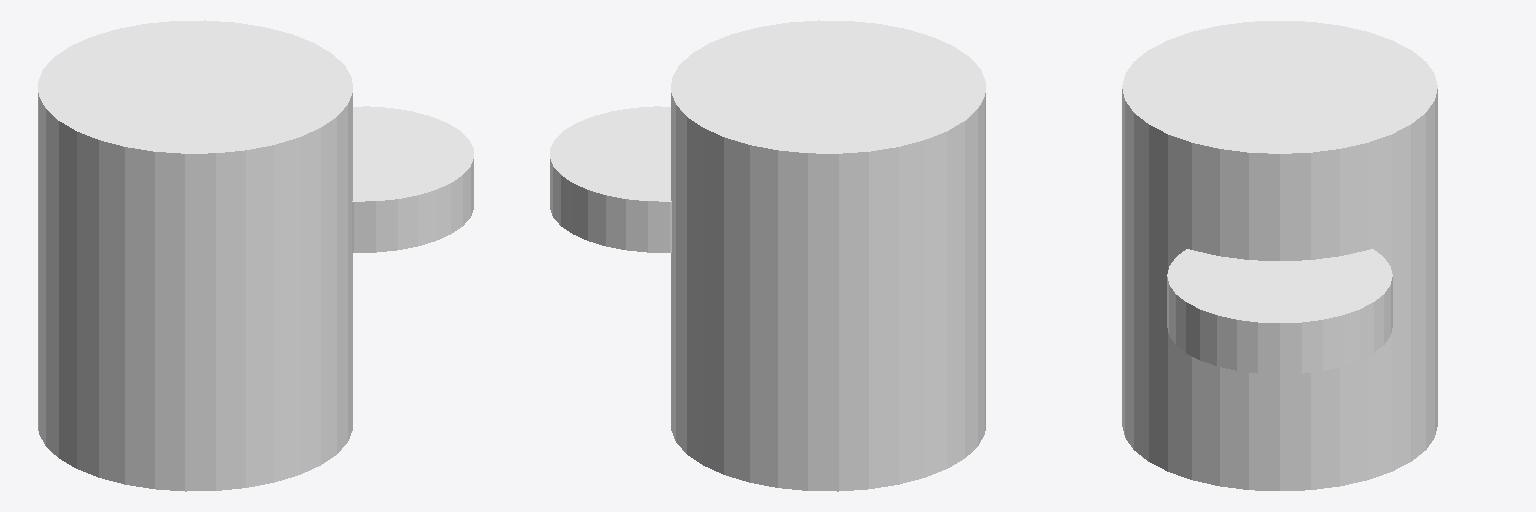
URDF robot description (mug):
<?xml version="0.0" ?>
<robot name="mug">
	<link name="mug">
		<inertial>
			<origin rpy="0.00000 -0.00000 0.00000" xyz="0.00000 0.00000 0.00000"/>
			<mass value="0.17512"/>
			<inertia ixx="0.00011" ixy="0" ixz="0" iyy="0.00016" iyz="0" izz="0.00014"/>
		</inertial>
		<visual>
			<origin rpy="0.00000 -0.00000 0.00000" xyz="0.00000 0.00000 0.03500"/>
			<geometry>
				<cylinder length="0.06600" radius="0.02800"/>
			</geometry>
			<material name="mat_-1_0">
				<color rgba="1.00000 1.00000 1.00000 1.00000" />
			</material>
		</visual>
		<visual>
			<origin rpy="0.00000 -0.00000 0.00000" xyz="0.03400 0.00000 0.04200"/>
			<geometry>
				<cylinder length="0.01000" radius="0.02000"/>
			</geometry>
			<material name="mat_-1_1">
				<color rgba="1.00000 1.00000 1.00000 1.00000" />
			</material>
		</visual>
		<collision>
			<origin rpy="0.00000 -0.00000 0.00000" xyz="0.00000 0.00000 0.03500"/>
			<geometry>
				<cylinder length="0.06600" radius="0.02800"/>
			</geometry>
		</collision>
		<collision>
			<origin rpy="0.00000 -0.00000 0.00000" xyz="0.03400 0.00000 0.04200"/>
			<geometry>
				<cylinder length="0.01000" radius="0.02000"/>
			</geometry>
		</collision>
	</link>
</robot>

--- Render facts (derived) ---
Views: 3 orthographic renders of the robot side by side, from view 1: azimuth 30°, elevation 25°; view 2: azimuth 150°, elevation 25°; view 3: azimuth 270°, elevation 25°.
Robot: mug — 1 links, 0 joints (none); root link mug; default pose: every joint at zero.
Visible links, largest first — view 1: mug; view 2: mug; view 3: mug.
Link boxes in pixels (bbox=[...]): mug: bbox=[38, 20, 473, 491]; mug: bbox=[550, 20, 985, 491]; mug: bbox=[1122, 21, 1437, 490].
Size in the robot's own frame: 0.082 by 0.056 by 0.066 metres.
Geometry: primitives only (box / cylinder / sphere), no mesh files.